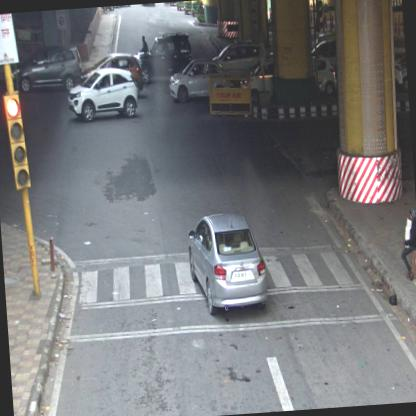car: (186, 212, 268, 320), (67, 65, 141, 124), (13, 47, 84, 94), (167, 56, 233, 105), (136, 32, 192, 84), (80, 50, 142, 92), (210, 40, 268, 82), (107, 5, 132, 12), (141, 3, 155, 9)
